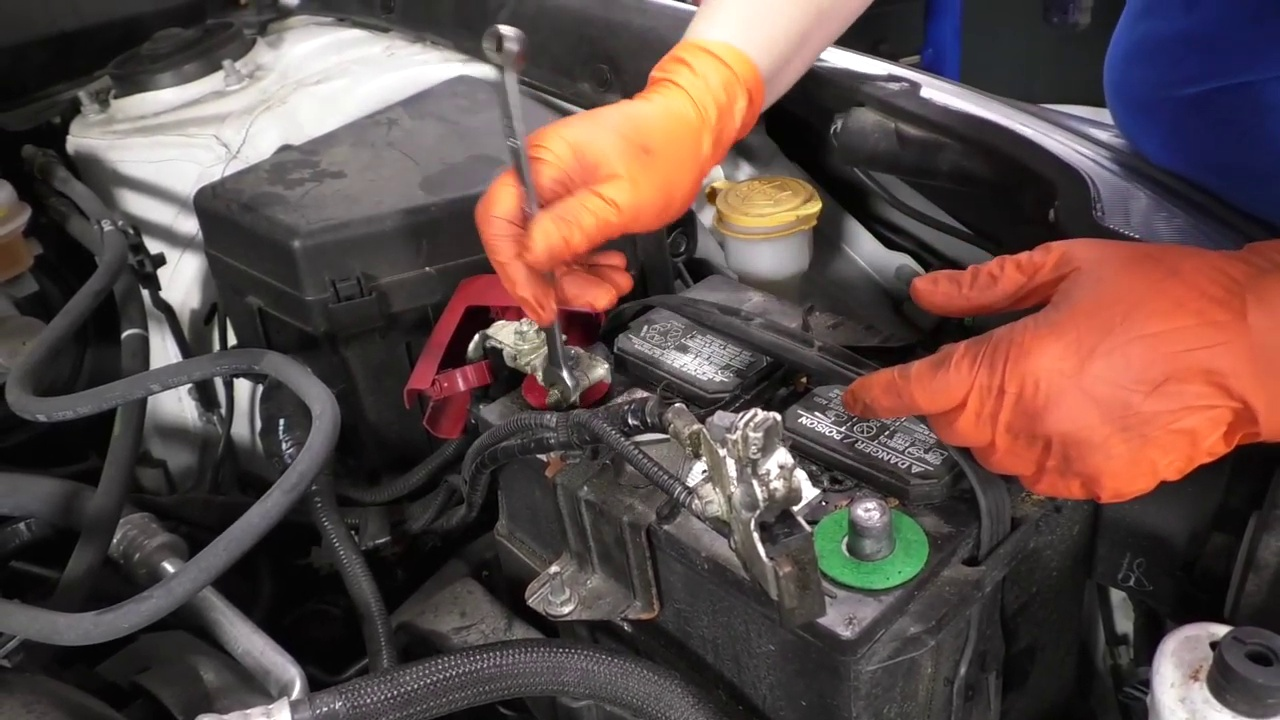battery: (463, 274, 1085, 639)
neg_disconnected: (815, 476, 953, 593)
pos_connected: (439, 274, 613, 423)
pos_touched: (419, 149, 628, 413)
